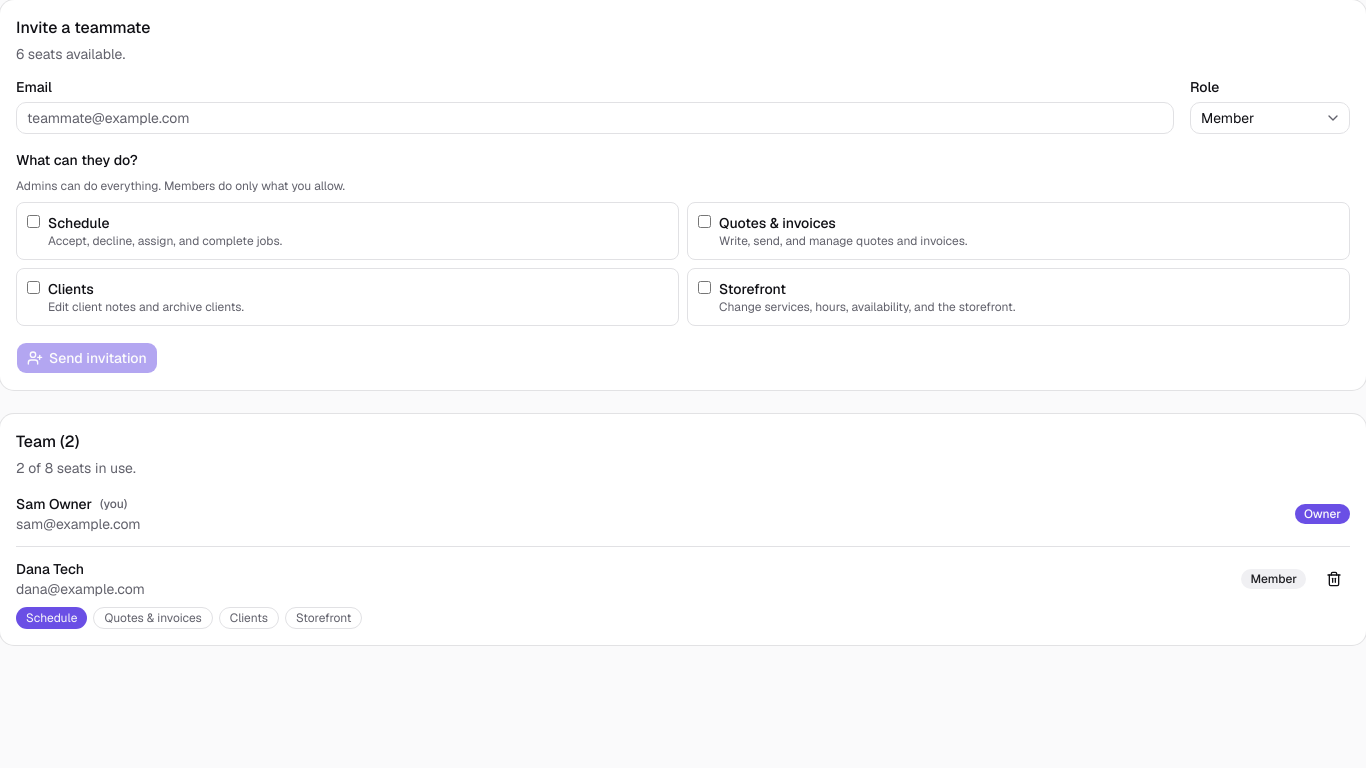
Test case: TeamManager › does not offer a capability grid for an admin invite
The width and height of the screenshot is (1366, 768).
Check: the text "What can they do?" is shown, box [16, 150, 138, 170]
Click the dropdown named "Role" at (1270, 118), box [1190, 102, 1350, 134]
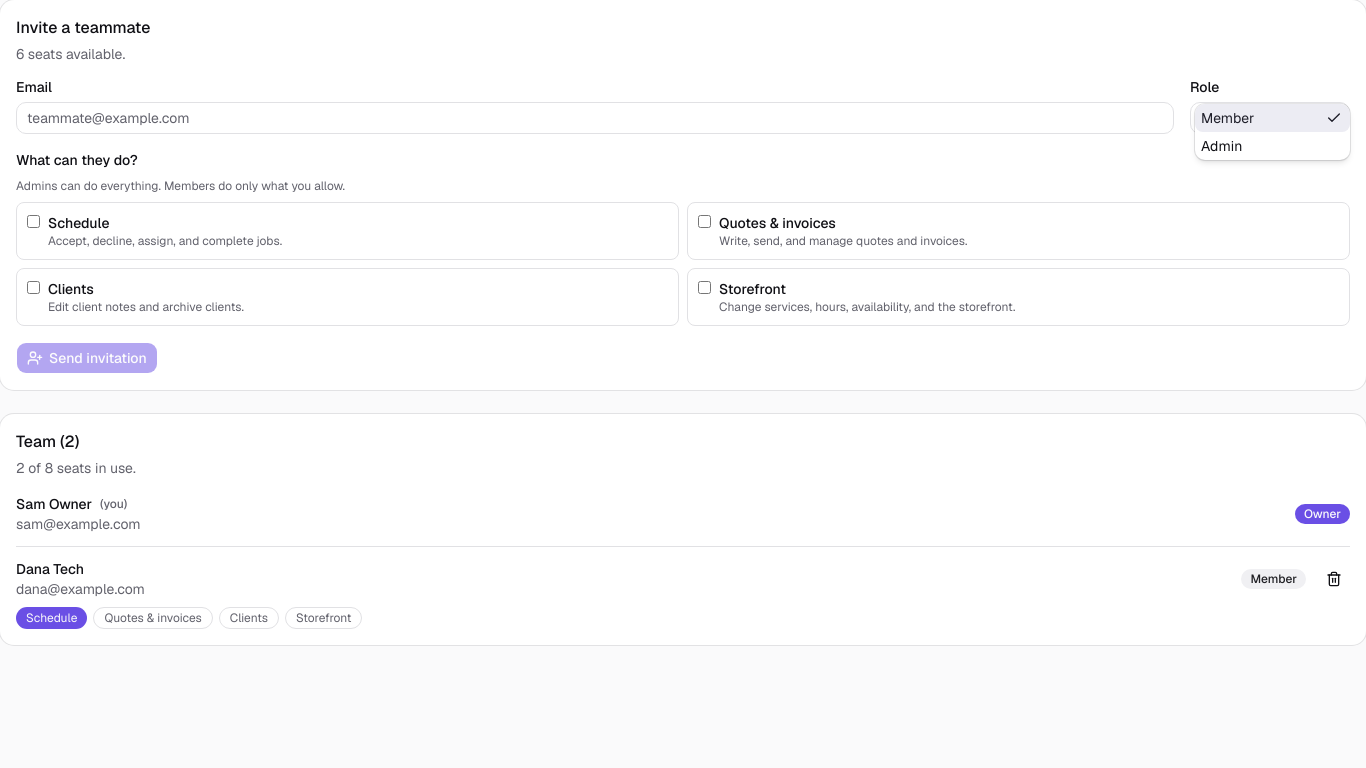
Click the option "Admin" at (1222, 146), box [1201, 137, 1242, 155]
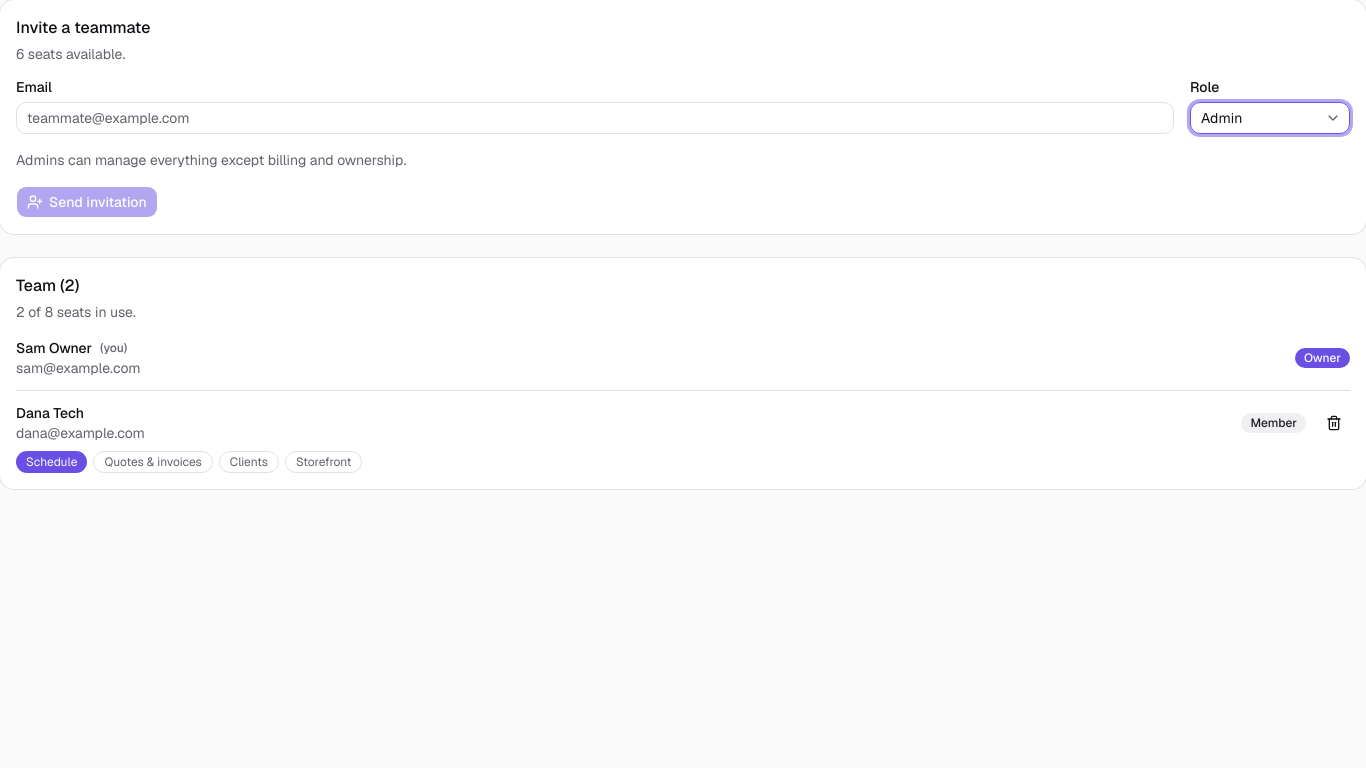
Check: the text "What can they do?" is gone
